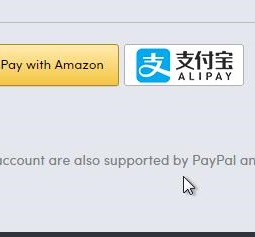cursor: (182, 174, 195, 196)
